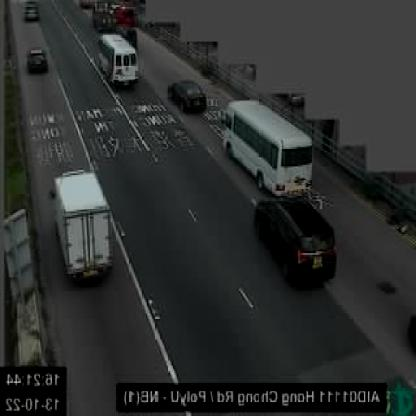Bus: (222, 99, 315, 197), (98, 35, 139, 88)
Car: (254, 198, 337, 288), (168, 80, 207, 115), (26, 44, 48, 75), (22, 0, 37, 20)
Truck: (54, 169, 113, 286), (94, 1, 136, 42)
